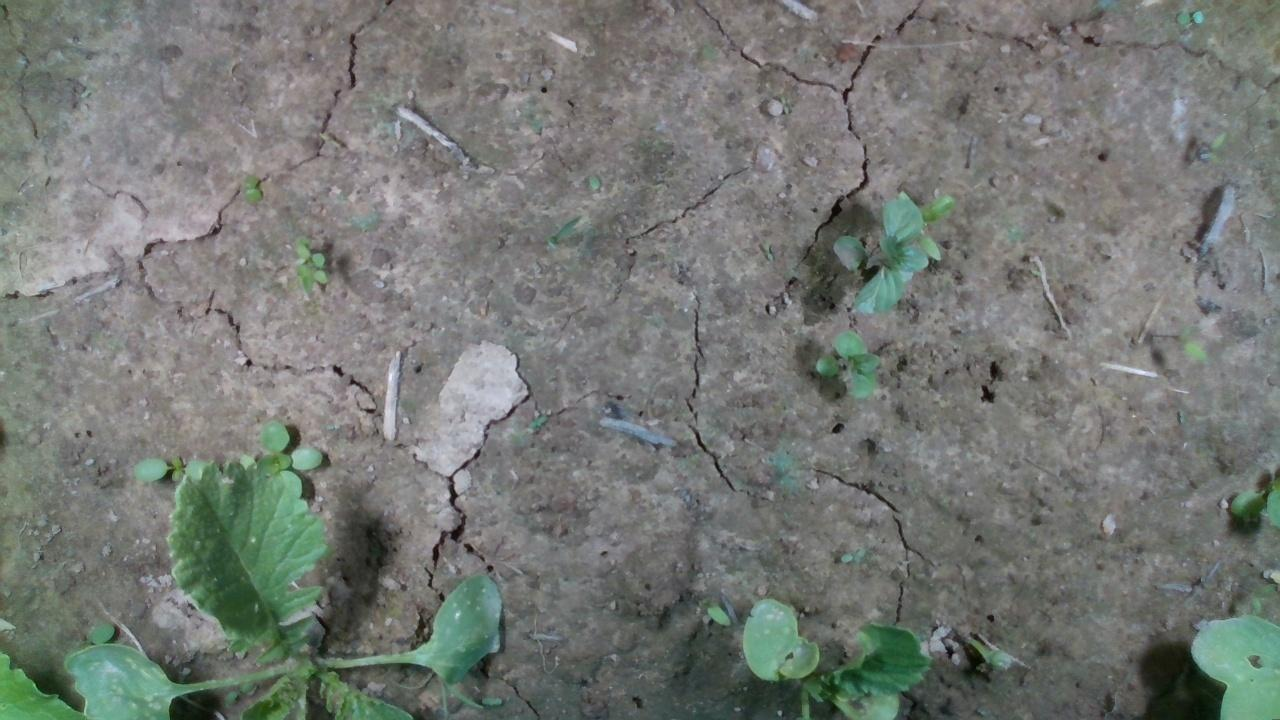weed: (241, 171, 261, 204)
